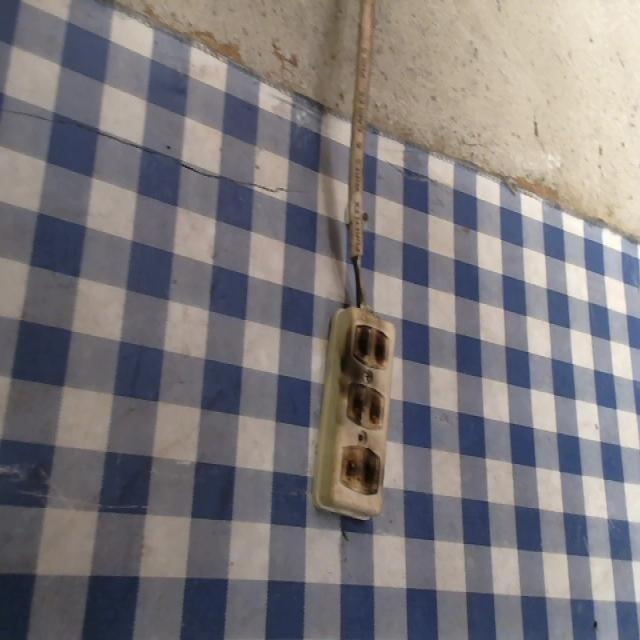-: (334, 440, 384, 493), (350, 320, 391, 371), (345, 378, 385, 426)
